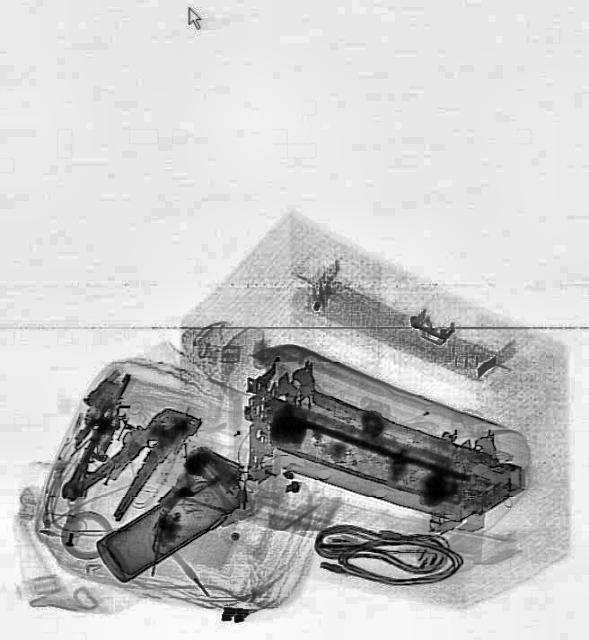Pliers: (58, 381, 204, 533)
